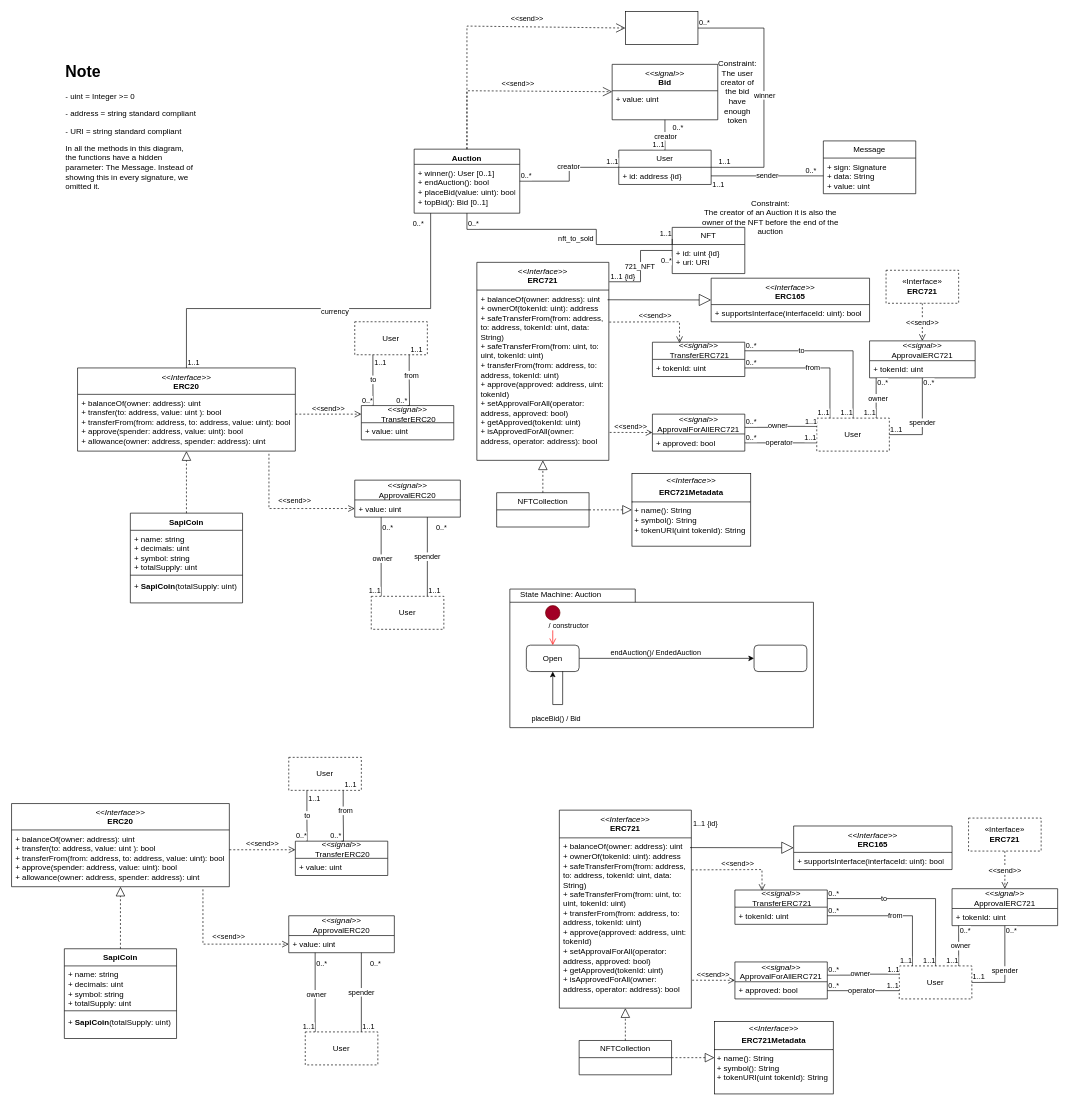
Some shapes in this 1069 by 1106 pixel diagram are drawn without their labels. Here are the shapes that lost their labels. From the top down, the centre of each, then its label:
At pixel 661 28: "<<signal>> EndedAuction".
At pixel 780 658: "Closed".
